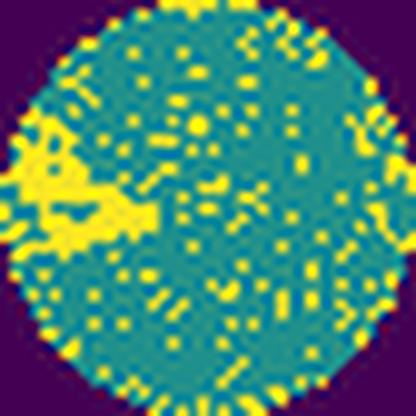Edge-Loc: (1, 112, 162, 264)
